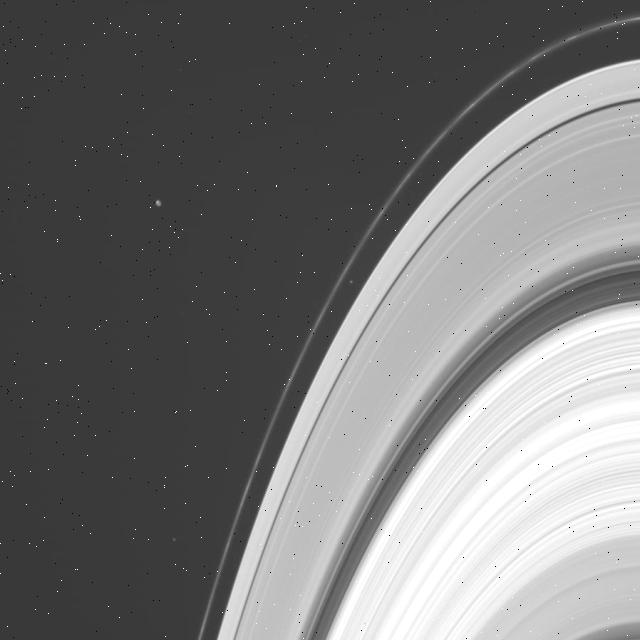Saturn: (191, 9, 640, 640)
